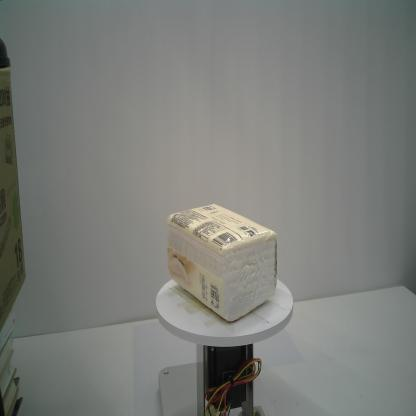Tissue: (166, 202, 279, 324)
